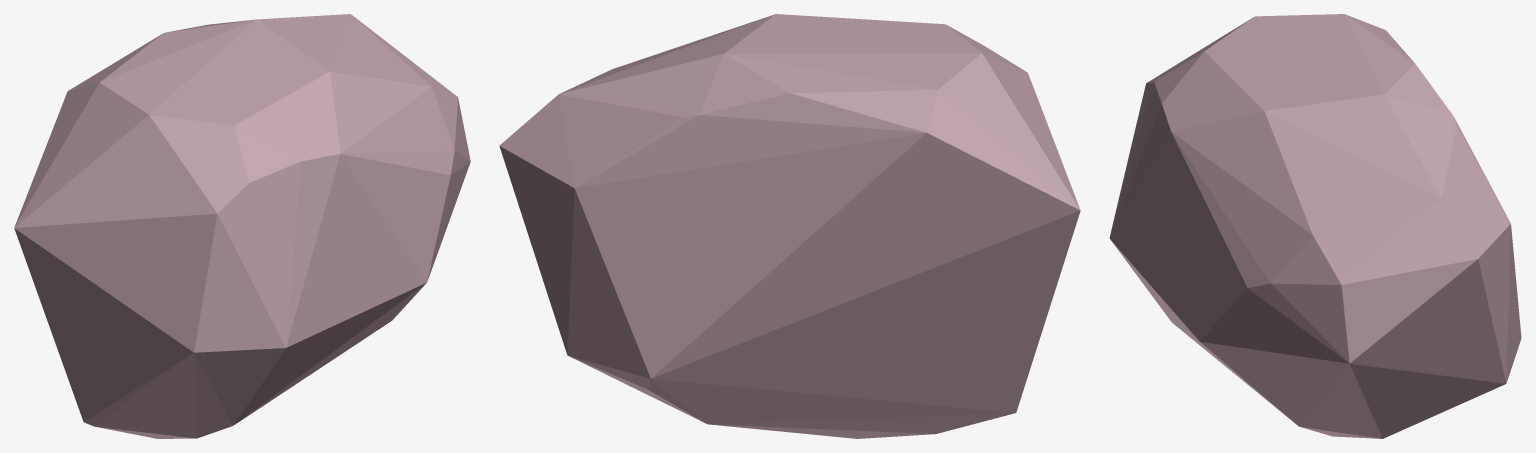
Rendered from food_produce_avocado_f01.glb.
The picture shows the model from 3 angles, left to right: view 1: azimuth 30°, elevation 25°; view 2: azimuth 150°, elevation 25°; view 3: azimuth 270°, elevation 25°; orthographic projection. The views are drawn at different scales.
Visible parts, largest first — view 1: geometry_0; view 2: geometry_0; view 3: geometry_0.
Boxes of the visible parts, <box> form: geometry_0: <box>14,14,470,438</box>; geometry_0: <box>499,14,1080,438</box>; geometry_0: <box>1109,14,1521,438</box>.
Size of the model in its own units: 0.4474 by 0.3144 by 0.3356.
